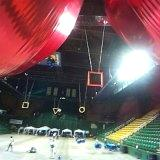Orange_Square_GShape: (88, 71, 103, 86)
Yellow_Circle_GShape: (78, 107, 85, 113)
Yellow_Square_GShape: (22, 102, 29, 108)
Yellow_Triangle_Gshape: (52, 108, 59, 114)
